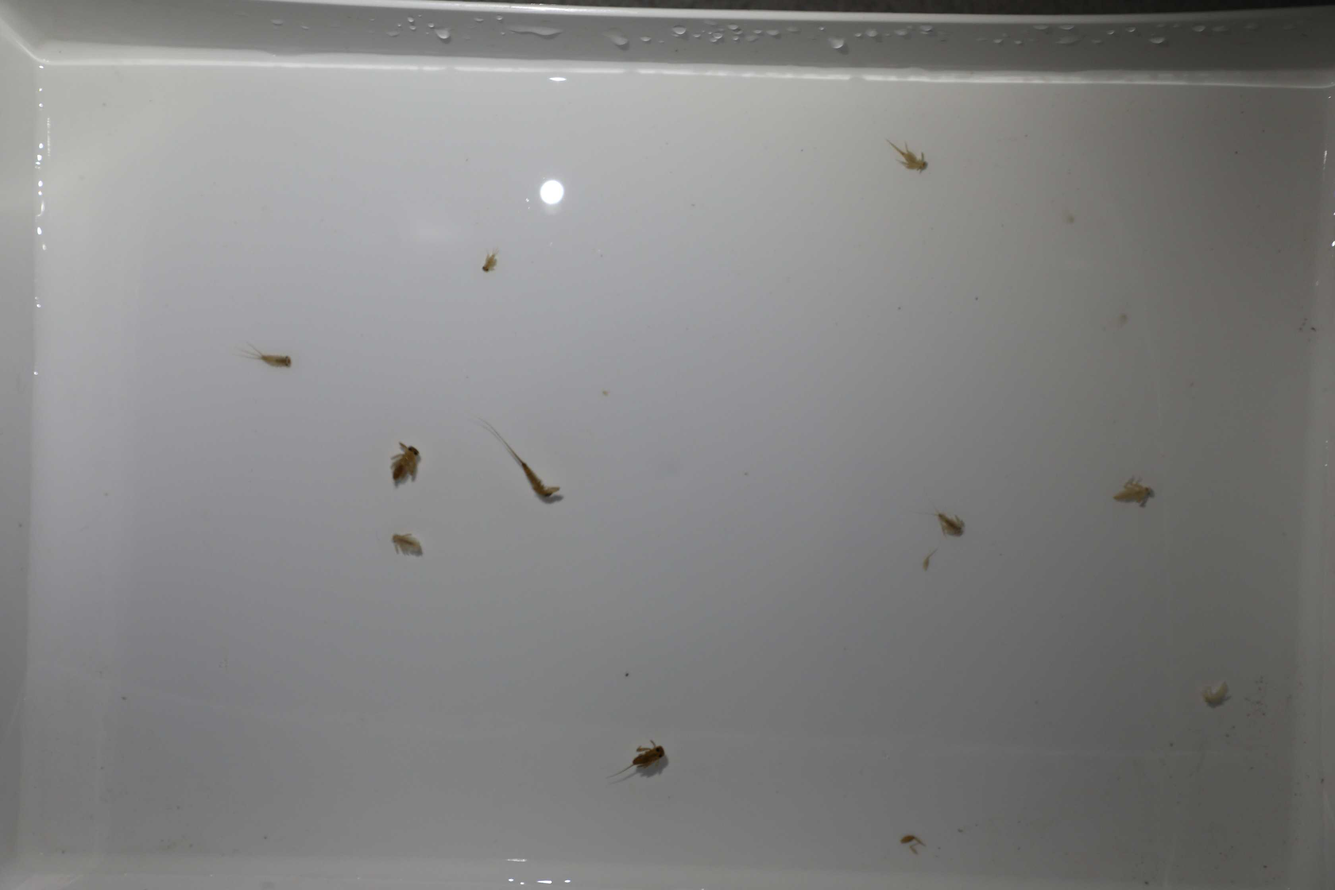Mayfly: (474, 421, 570, 509), (596, 735, 665, 788), (873, 132, 938, 175), (228, 334, 297, 373), (1098, 471, 1159, 514), (385, 431, 421, 494), (381, 525, 434, 565), (931, 505, 968, 540), (1195, 680, 1233, 707), (476, 246, 504, 277)
